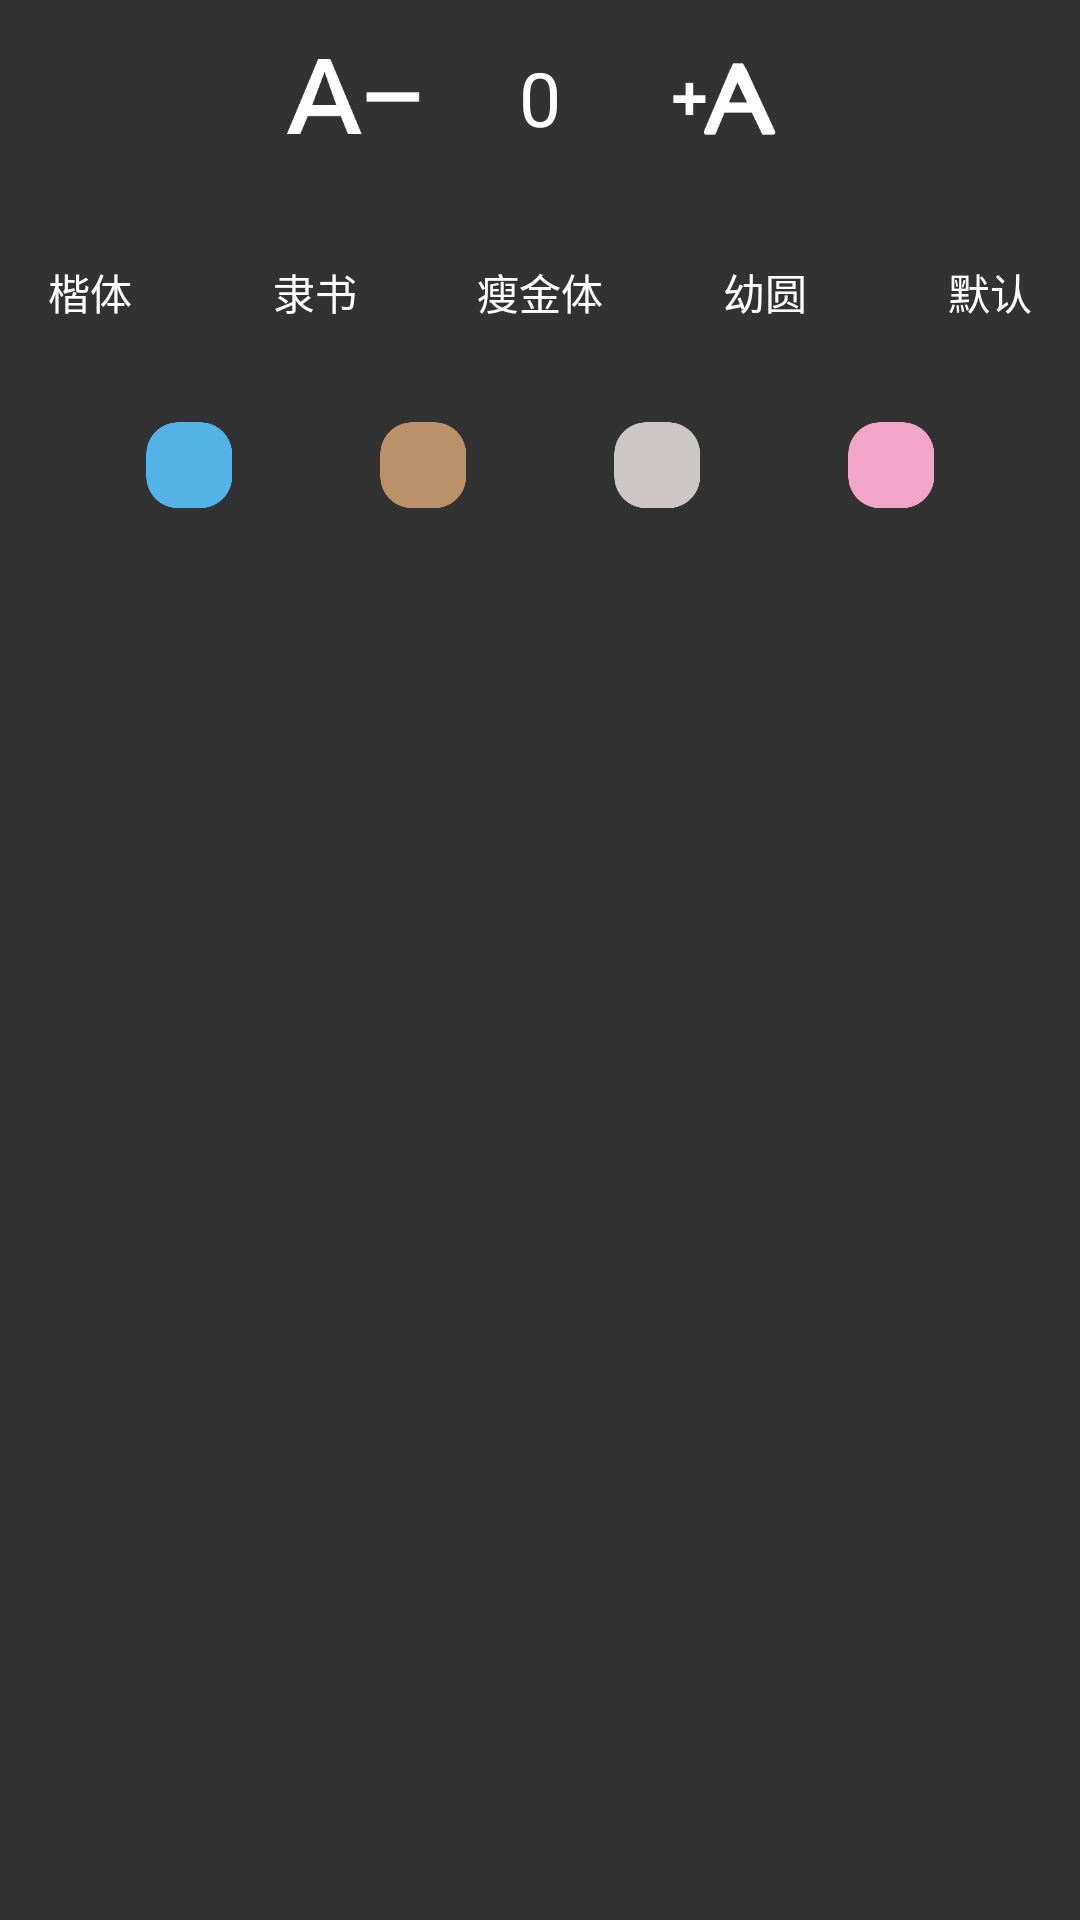

Where icons sit on this 1080x1920 app screen, as BBox(x1, y1, x2, y2):
font add: BBox(673, 63, 776, 135)
font dec: BBox(287, 59, 420, 134)
